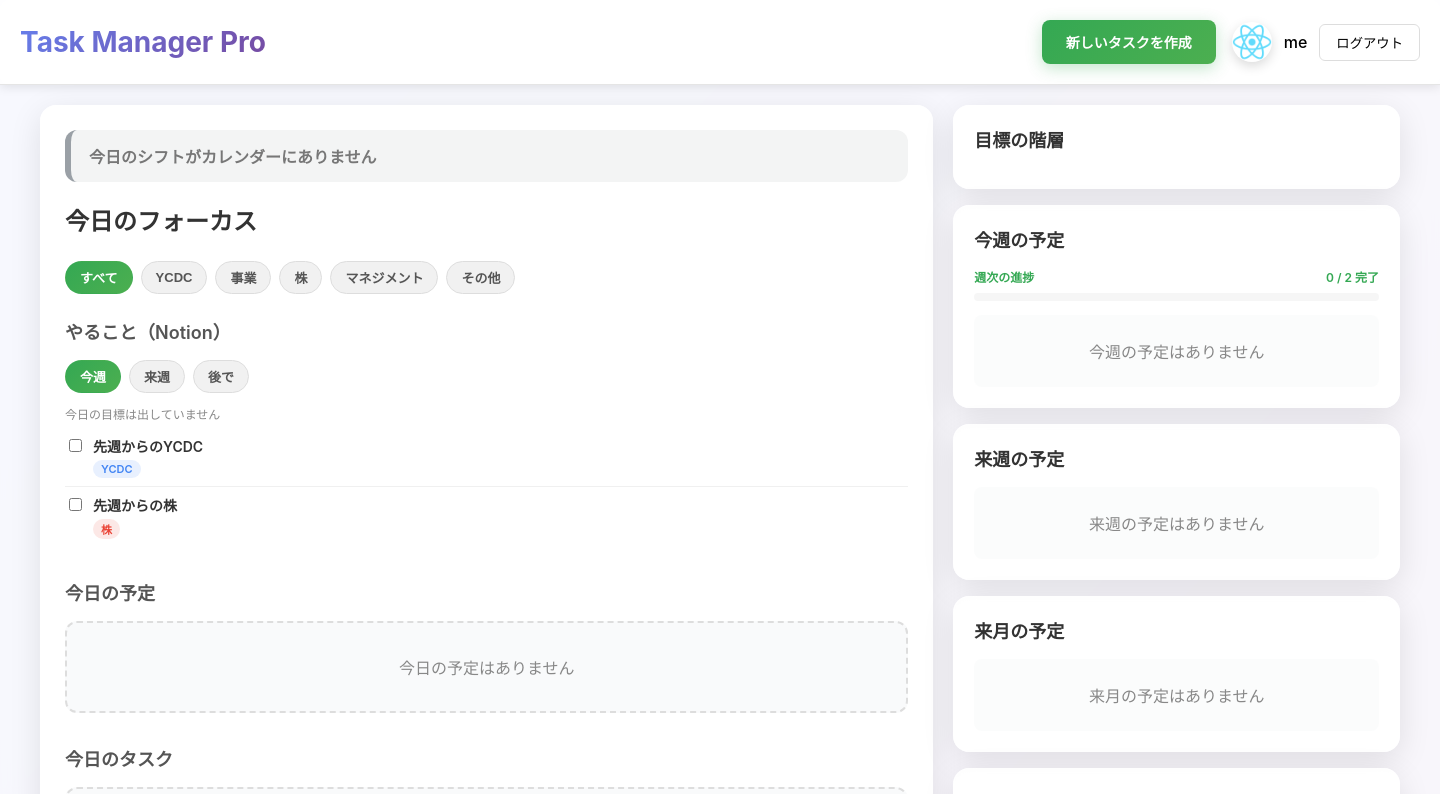
Test: a carried-over row is filtered by the category buttons like any other row
The image size is (1440, 794).
Expected: the text "先週からのYCDC" is shown, [93,438,203,455]
Click the button "株" at x=301, y=278, box [279,261,322,294]
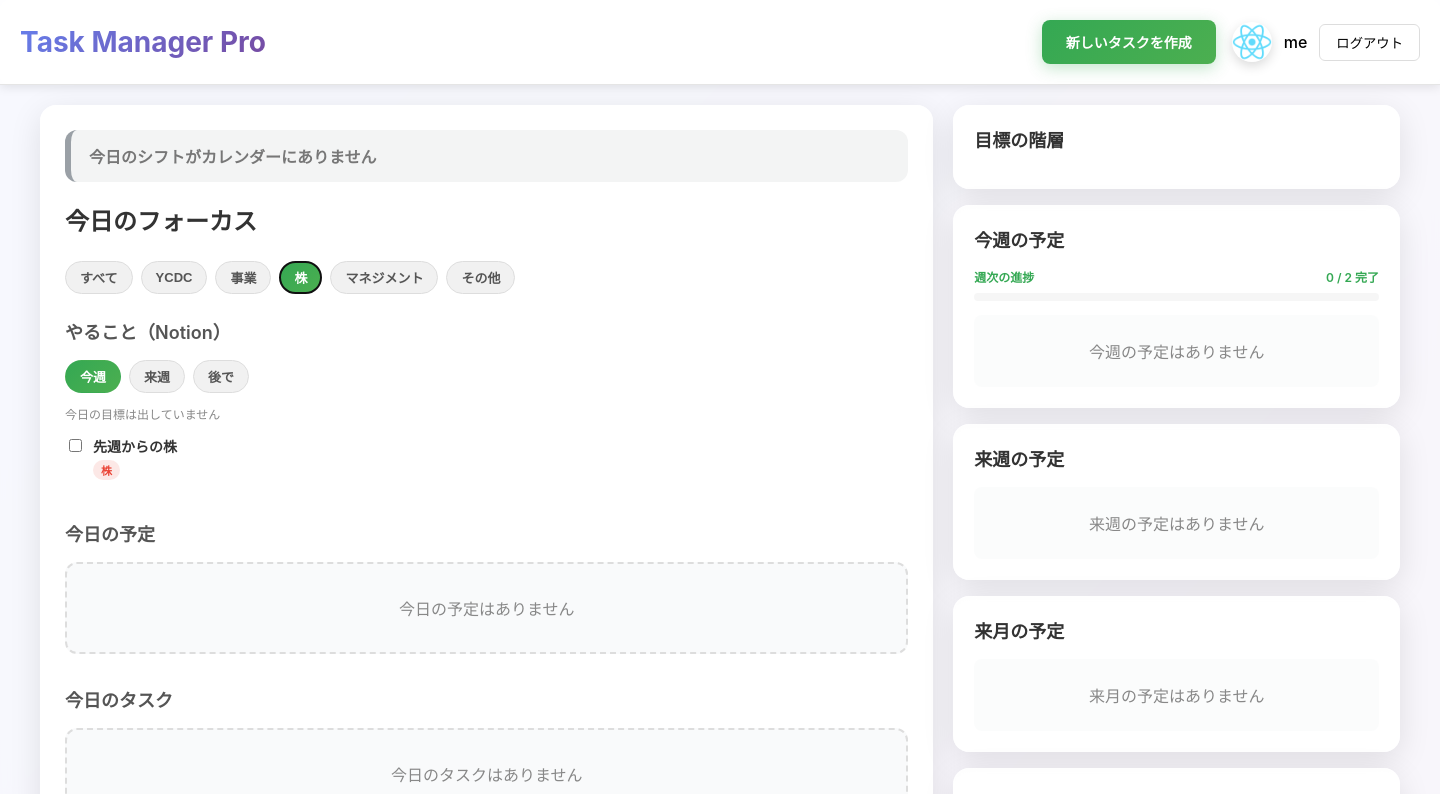
Expected: the text "先週からの株" is shown, [93,438,177,455]
Expected: the button "先週からのYCDC" is gone
